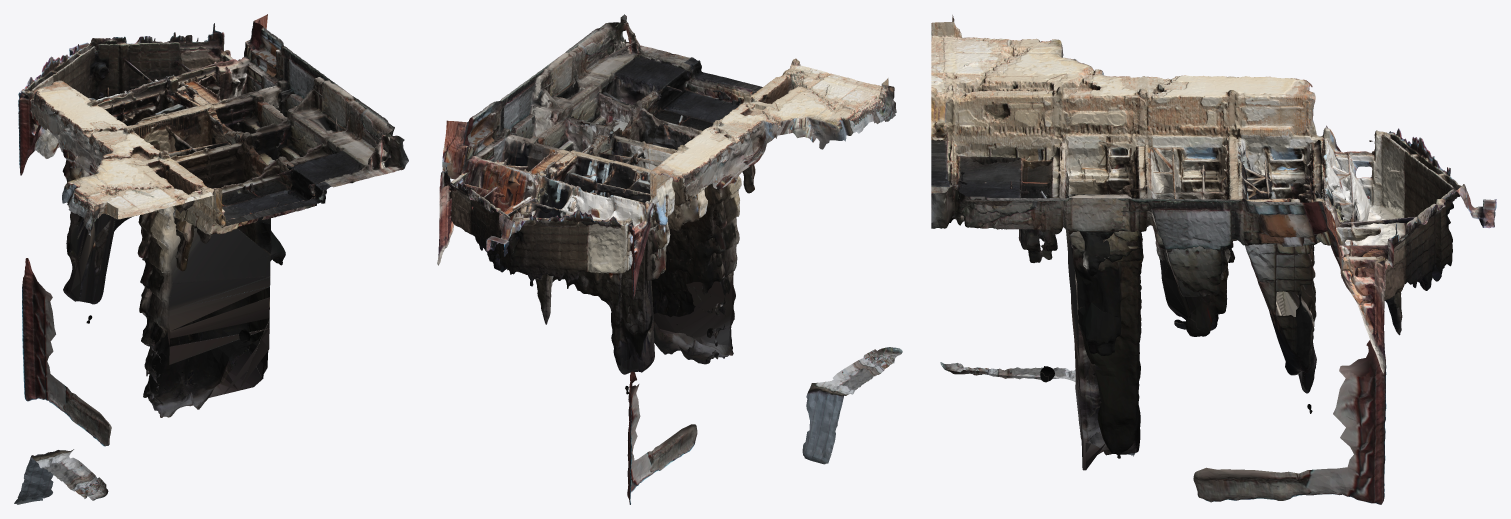
File: TVcenter-Belgrade.fbx
3 views of the same model, side by side, from view 1: azimuth 30°, elevation 25°; view 2: azimuth 150°, elevation 25°; view 3: azimuth 270°, elevation 25° (orthographic). The views are drawn at different scales.
Visible parts, largest first — view 1: Model; view 2: Model; view 3: Model.
Part boxes in pixels (box(x1,y1,x2,y2)): Model: box(14, 14, 408, 504); Model: box(437, 14, 902, 504); Model: box(931, 15, 1496, 504).
Size of the model in its own units: 5.98 by 7.22 by 6.06.
Materials: 3 (3 with a texture image).
